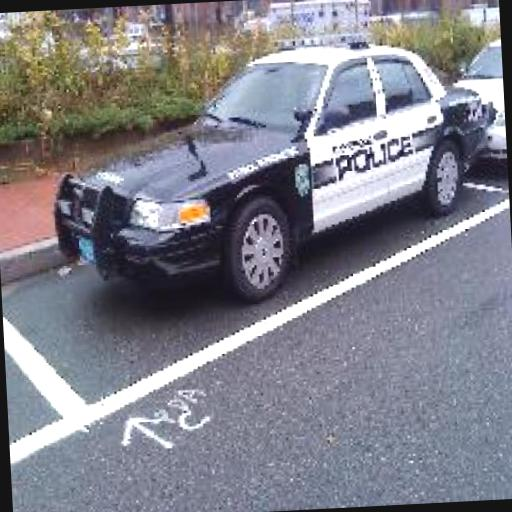Ambulance: (47, 26, 489, 304)
